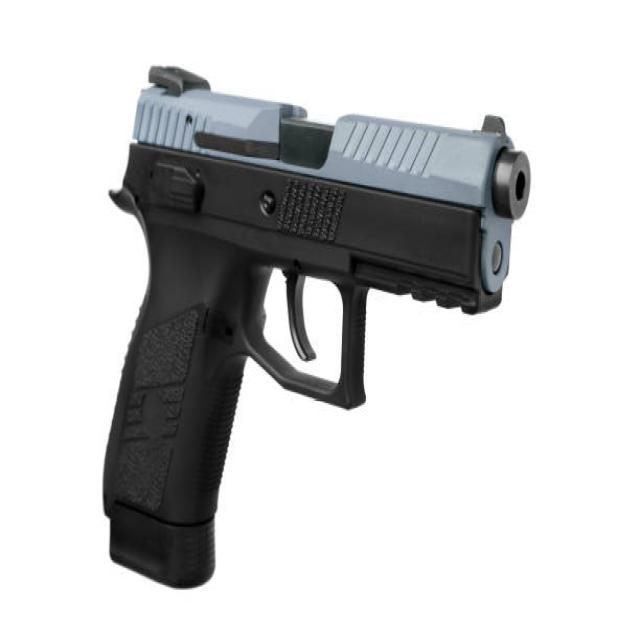pistol: (91, 63, 545, 601)
